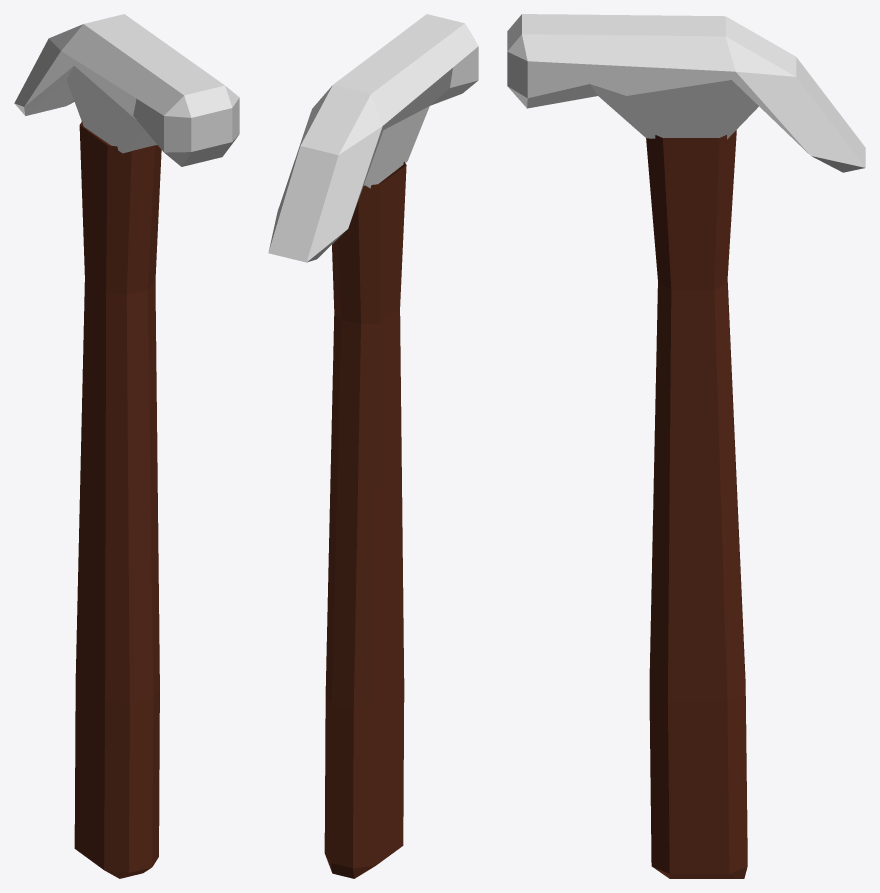
Rendered from Молоток(п_м).fbx.
3 renders of one model, left to right at view 1: azimuth 30°, elevation 25°; view 2: azimuth 150°, elevation 25°; view 3: azimuth 270°, elevation 25°, orthographic. The views are drawn at different scales.
Parts seen in each view (by area): view 1: Cube, Куб; view 2: Cube, Куб; view 3: Cube, Куб.
Part boxes in pixels (box(x1,y1,x2,y2)): Cube: box(74, 121, 161, 878); Куб: box(14, 14, 239, 166); Cube: box(324, 162, 406, 878); Куб: box(268, 14, 478, 262); Cube: box(646, 130, 747, 878); Куб: box(507, 14, 865, 172).
Bounding box in the file's own units: 55.21 × 585 × 224.
